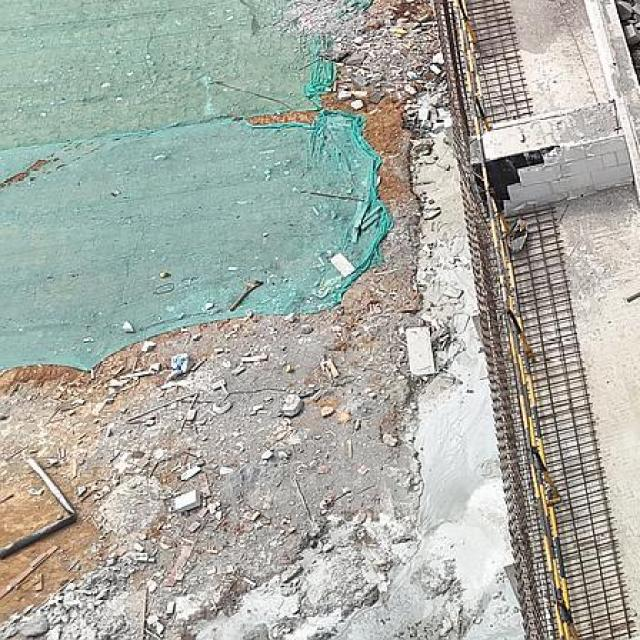edge_guardrail: (452, 0, 578, 640)
